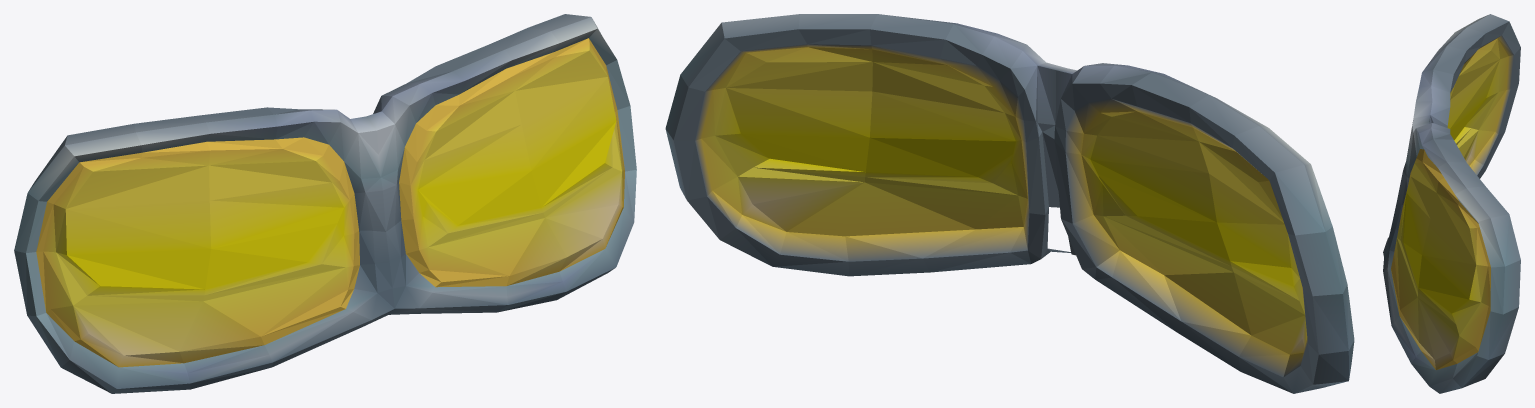
Rendered from PoliceGlassesHank.glb.
3 renders of one model, left to right at view 1: azimuth 30°, elevation 25°; view 2: azimuth 150°, elevation 25°; view 3: azimuth 270°, elevation 25°, orthographic. The views are drawn at different scales.
Visible parts, largest first — view 1: PoliceGlassesHank; view 2: PoliceGlassesHank; view 3: PoliceGlassesHank.
Part boxes in pixels (x1,y1,x2,y2): PoliceGlassesHank: (14,14,636,393); PoliceGlassesHank: (665,14,1354,393); PoliceGlassesHank: (1383,14,1520,393).
Bounding box in the file's own units: 0.3276 × 0.1255 × 0.0805.
